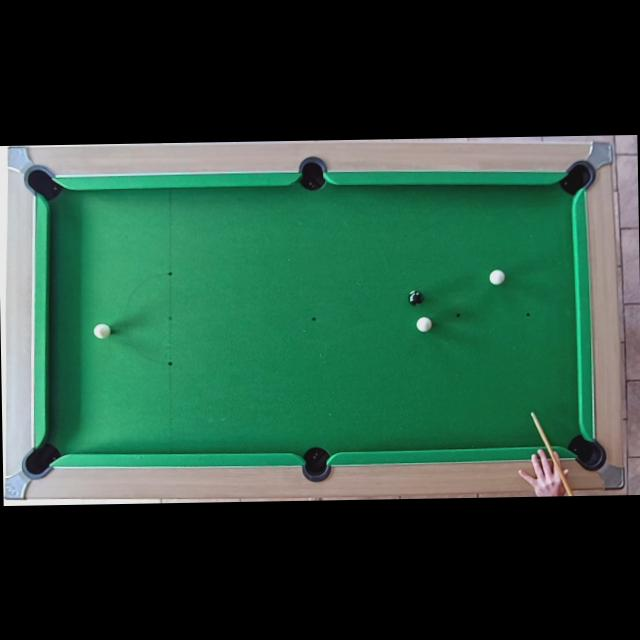Ball: (94, 323, 110, 339), (416, 316, 432, 332), (407, 290, 422, 304), (489, 270, 504, 284)
